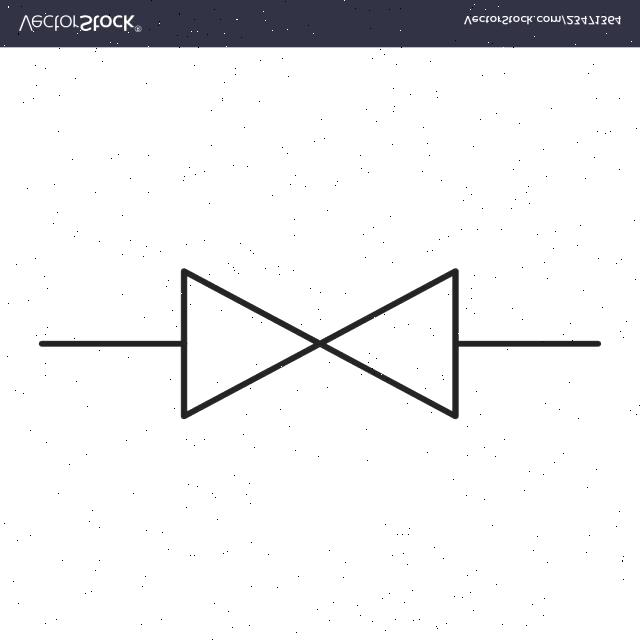Gate Valve: (136, 198, 527, 461)
